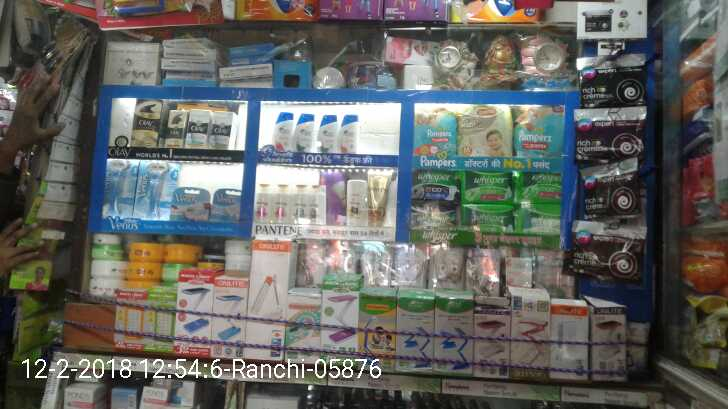venus: (137, 164, 169, 217), (106, 160, 136, 216), (170, 187, 209, 222), (209, 188, 241, 222)
